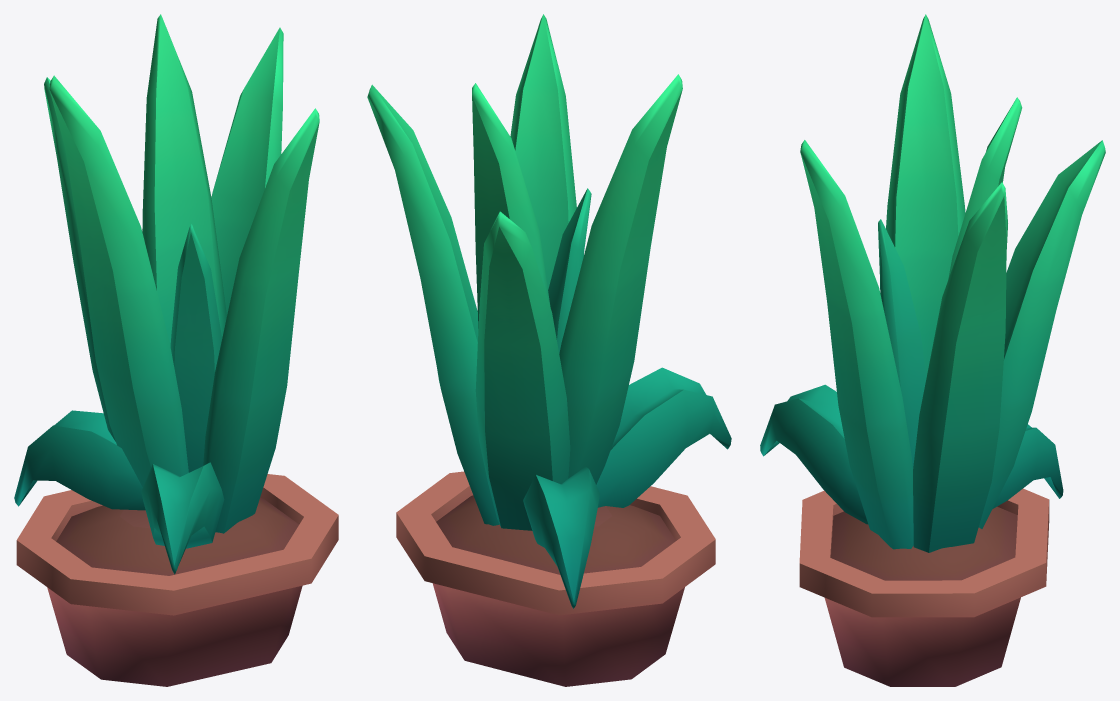
File: Plant_03.fbx
3 renders of one model, left to right at view 1: azimuth 30°, elevation 25°; view 2: azimuth 150°, elevation 25°; view 3: azimuth 270°, elevation 25°, orthographic. The views are drawn at different scales.
Parts seen in each view (by area): view 1: Plant_03; view 2: Plant_03; view 3: Plant_03.
Boxes of the visible parts, x1,y1,x2,y2 form: Plant_03: [14, 14, 338, 686]; Plant_03: [367, 14, 731, 686]; Plant_03: [760, 14, 1105, 686].
Bounding box in the file's own units: 1.27 × 2.6 × 1.42.
